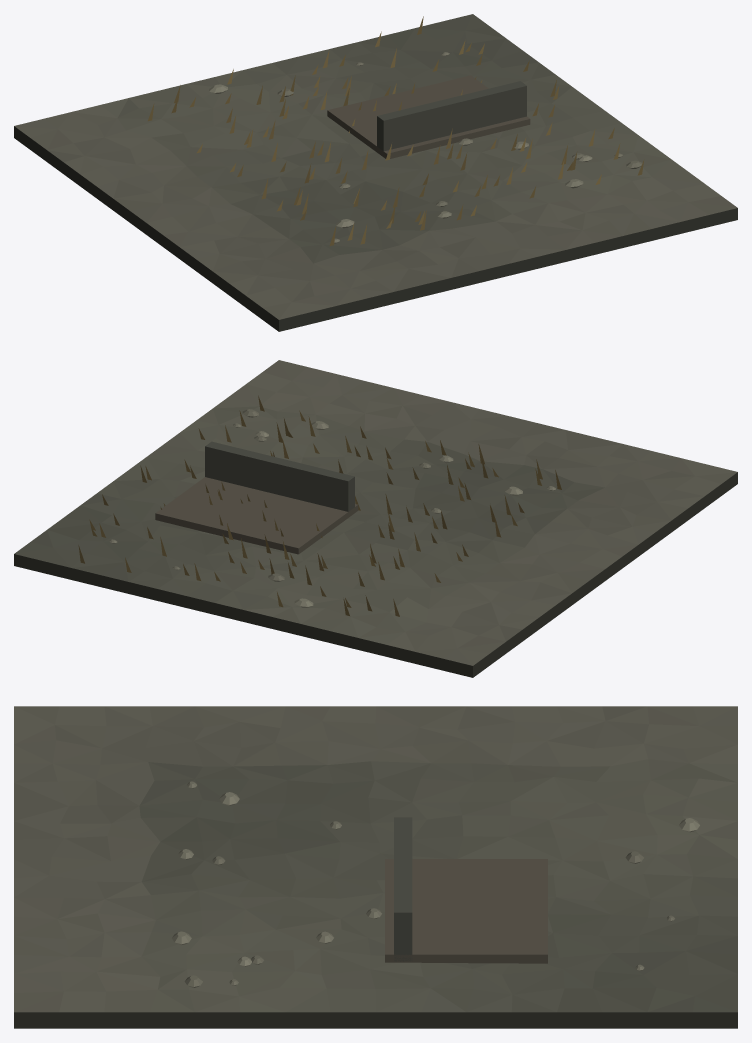
File: CHUNK_abandoned_village__evacuated_funeral_hamlet__10.glb
3 views of the same model, one above another, from view 1: azimuth 30°, elevation 25°; view 2: azimuth 150°, elevation 25°; view 3: azimuth 270°, elevation 25° (orthographic). The views are drawn at different scales.
Visible parts, largest first — view 1: CHUNK_abandoned_village__evacuated_funeral_hamlet__10; view 2: CHUNK_abandoned_village__evacuated_funeral_hamlet__10; view 3: CHUNK_abandoned_village__evacuated_funeral_hamlet__10.
Part boxes in pixels (x1,y1,x2,y2): CHUNK_abandoned_village__evacuated_funeral_hamlet__10: (14,14,737,331); CHUNK_abandoned_village__evacuated_funeral_hamlet__10: (14,360,737,677); CHUNK_abandoned_village__evacuated_funeral_hamlet__10: (14,706,737,1028).
Size of the model in its own units: 8 by 0.83 by 8.
